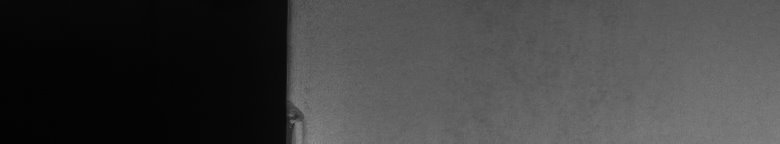hb: (296, 88, 313, 136)
